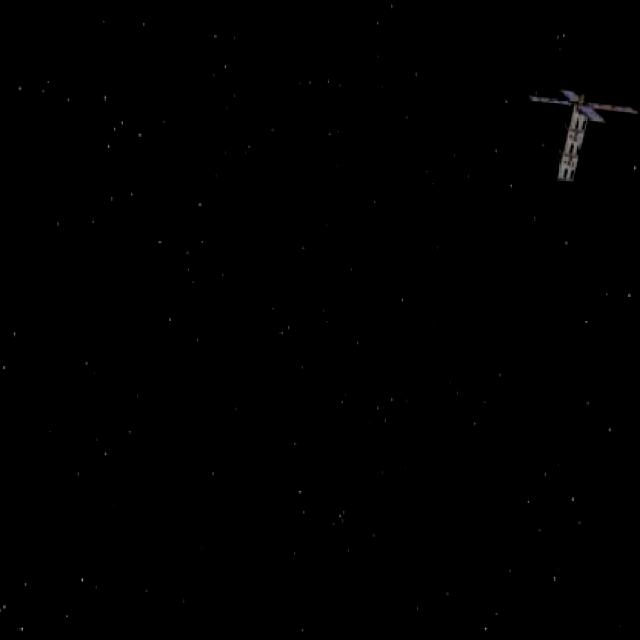satellite: (525, 78, 640, 188)
